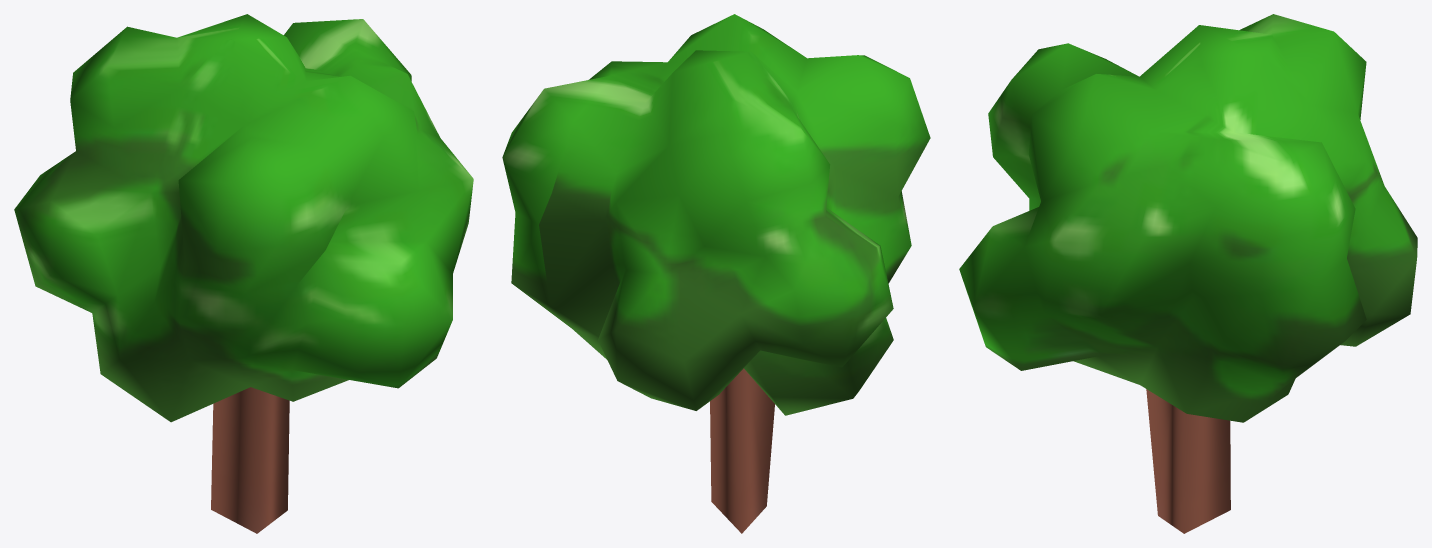
The model's file is tree5.obj.
3 renders of one model, left to right at view 1: azimuth 30°, elevation 25°; view 2: azimuth 150°, elevation 25°; view 3: azimuth 270°, elevation 25°, orthographic. The views are drawn at different scales.
Parts seen in each view (by area): view 1: Tree8.004; view 2: Tree8.004; view 3: Tree8.004.
Boxes of the visible parts, box(x1,y1,x2,y2) form: Tree8.004: box(14, 14, 473, 533); Tree8.004: box(502, 14, 930, 533); Tree8.004: box(959, 14, 1417, 533).
Bounding box in the file's own units: 2.11 × 2.55 × 2.17.
1 material, 1 textured.
